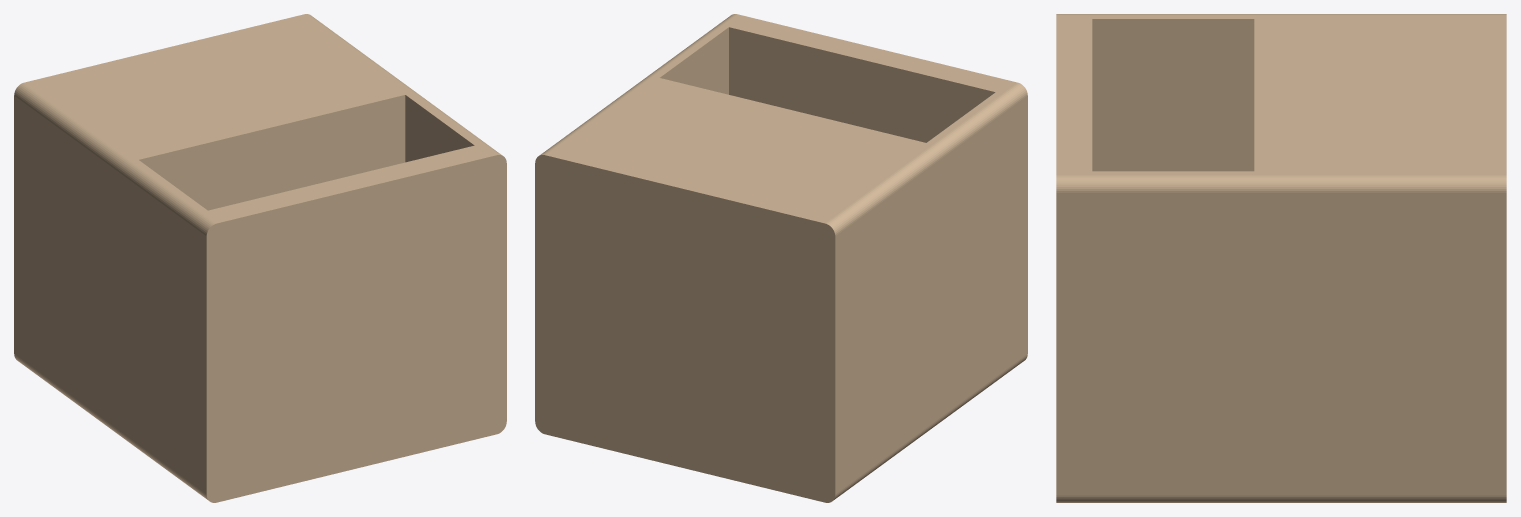
File: nightstand_south.glb
3 views of the same model, side by side, from view 1: azimuth 30°, elevation 25°; view 2: azimuth 150°, elevation 25°; view 3: azimuth 270°, elevation 25° (orthographic). The views are drawn at different scales.
Parts seen in each view (by area): view 1: nightstand_south; view 2: nightstand_south; view 3: nightstand_south.
Boxes of the visible parts, bbox=[...] form: nightstand_south: bbox=[14, 14, 506, 502]; nightstand_south: bbox=[535, 14, 1027, 502]; nightstand_south: bbox=[1056, 14, 1506, 502].
Size of the model in its own units: 450 by 400 by 500.
